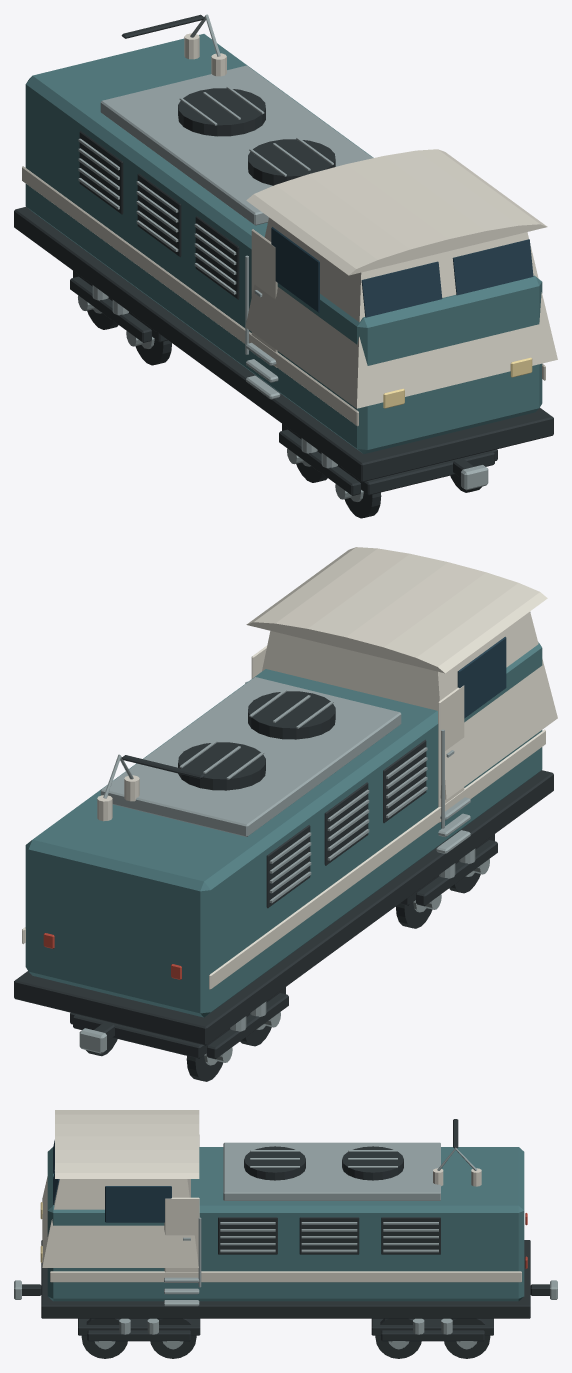
Rendered from train-loco-01.glb.
The picture shows the model from 3 angles, top to bottom: view 1: azimuth 30°, elevation 25°; view 2: azimuth 150°, elevation 25°; view 3: azimuth 270°, elevation 25°; orthographic projection. The views are drawn at different scales.
Parts seen in each view (by area): view 1: Body, CabRoof, FrontCab, MainChassis, RoofEquipmentBase, FleetBand, RoofCoolingFan.001, Windscreen, Windscreen.001, RoofCoolingFan, CabSideGlass, BogieBolster (+8 smaller); view 2: Body, CabRoof, RoofEquipmentBase, FrontCab, MainChassis, FleetBand, RoofCoolingFan, RoofCoolingFan.001, CabSideGlass, BogieBolster.001, CabDoor, IntakeRecess.001 (+4 smaller); view 3: Body, CabRoof, MainChassis, RoofEquipmentBase, FrontCab, FleetBand.001, CabSideGlass.001, IntakeRecess.004, IntakeRecess.003, IntakeRecess.005, CabDoor.001, RoofCoolingFan.001 (+9 smaller).
Boxes of the visible parts, <box> form: Body: <box>25,34,542,453</box>; CabRoof: <box>246,149,547,275</box>; FrontCab: <box>245,217,557,408</box>; MainChassis: <box>14,207,553,482</box>; RoofEquipmentBase: <box>100,65,373,225</box>; FleetBand: <box>22,166,358,426</box>; RoofCoolingFan.001: <box>178,88,265,136</box>; Windscreen: <box>361,261,442,317</box>; Windscreen.001: <box>452,239,533,295</box>; RoofCoolingFan: <box>248,139,335,185</box>; CabSideGlass: <box>271,227,319,312</box>; BogieBolster: <box>282,424,494,495</box>; Body: <box>25,642,542,1017</box>; CabRoof: <box>246,547,547,673</box>; RoofEquipmentBase: <box>100,677,401,836</box>; FrontCab: <box>262,611,557,799</box>; MainChassis: <box>14,770,553,1045</box>; FleetBand: <box>209,729,545,989</box>; RoofCoolingFan: <box>248,691,335,739</box>; RoofCoolingFan.001: <box>178,742,265,790</box>; CabSideGlass: <box>457,636,506,718</box>; BogieBolster.001: <box>73,987,285,1058</box>; CabDoor: <box>438,685,464,822</box>; IntakeRecess.001: <box>324,782,368,865</box>; Body: <box>47,1147,524,1301</box>; CabRoof: <box>55,1110,199,1178</box>; MainChassis: <box>41,1240,530,1318</box>; RoofEquipmentBase: <box>223,1142,440,1200</box>; FrontCab: <box>42,1170,198,1267</box>; FleetBand.001: <box>50,1271,521,1282</box>; CabSideGlass.001: <box>105,1186,171,1222</box>; IntakeRecess.004: <box>299,1217,359,1254</box>; IntakeRecess.003: <box>218,1217,277,1254</box>; IntakeRecess.005: <box>381,1217,440,1254</box>; CabDoor.001: <box>164,1197,199,1282</box>; RoofCoolingFan.001: <box>342,1146,403,1180</box>.
Bounding box in the file's own units: 3 × 4.2 × 10.
